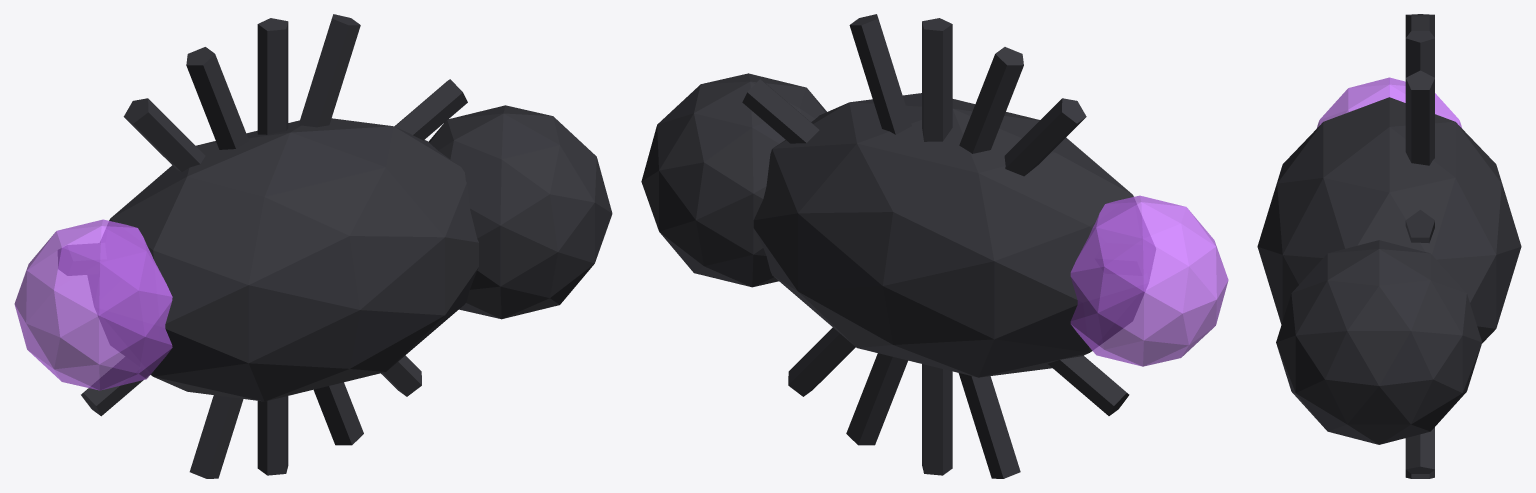
Rendered from desert_beetle_bug.glb.
3 renders of one model, left to right at view 1: azimuth 30°, elevation 25°; view 2: azimuth 150°, elevation 25°; view 3: azimuth 270°, elevation 25°, orthographic. The views are drawn at different scales.
Parts seen in each view (by area): view 1: bug_body, bug_head, glow_abdomen, leg_0, leg_4, leg_5, leg_3, leg_1, leg_2; view 2: bug_body, bug_head, glow_abdomen, leg_0, leg_4, leg_5, leg_1, leg_3, leg_2; view 3: bug_body, bug_head, leg_4, glow_abdomen, leg_0, leg_1, leg_3, leg_5.
Part boxes in pixels (x1,y1,x2,y2): bug_body: (88, 118, 478, 401); bug_head: (428, 105, 612, 319); glow_abdomen: (14, 219, 172, 390); leg_0: (257, 18, 288, 475); leg_4: (189, 14, 360, 478); leg_5: (186, 47, 363, 445); leg_3: (81, 79, 467, 416); leg_1: (123, 98, 421, 396); leg_2: (58, 243, 106, 275); bug_body: (753, 93, 1155, 377); bug_head: (641, 73, 826, 287); glow_abdomen: (1070, 195, 1228, 366); leg_0: (922, 18, 952, 475); leg_4: (849, 14, 1020, 478); leg_5: (846, 47, 1023, 445); leg_1: (788, 98, 1086, 396); leg_3: (742, 79, 1129, 415); leg_2: (1095, 243, 1151, 275); bug_body: (1257, 97, 1521, 343); bug_head: (1276, 240, 1482, 444); leg_4: (1405, 70, 1434, 165); glow_abdomen: (1316, 77, 1462, 128); leg_0: (1405, 31, 1434, 77); leg_1: (1405, 427, 1434, 473); leg_3: (1405, 210, 1434, 243); leg_5: (1405, 14, 1434, 478).
Size of the model in its own units: 0.6 by 0.45 by 0.256.
